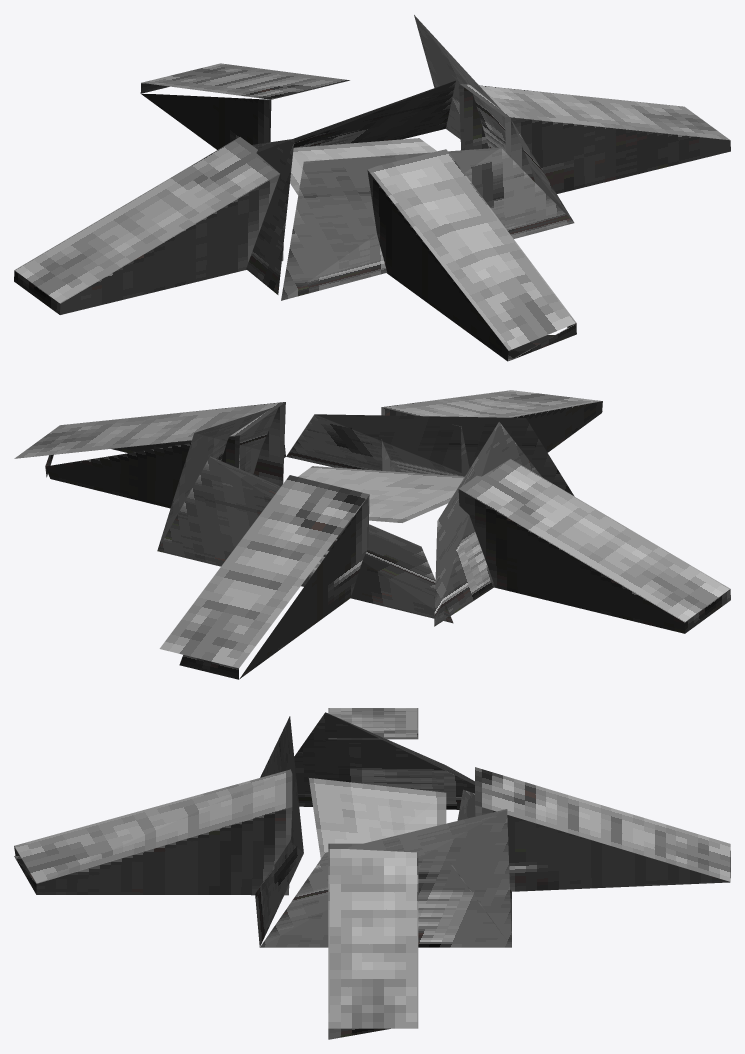
The model's file is comlow1.obj.
The picture shows the model from 3 angles, top to bottom: view 1: azimuth 30°, elevation 25°; view 2: azimuth 150°, elevation 25°; view 3: azimuth 270°, elevation 25°; orthographic projection. The views are drawn at different scales.
Bounding box in the file's own units: 18.97 × 3.39 × 17.91.
Materials: 5 (5 with a texture image).
